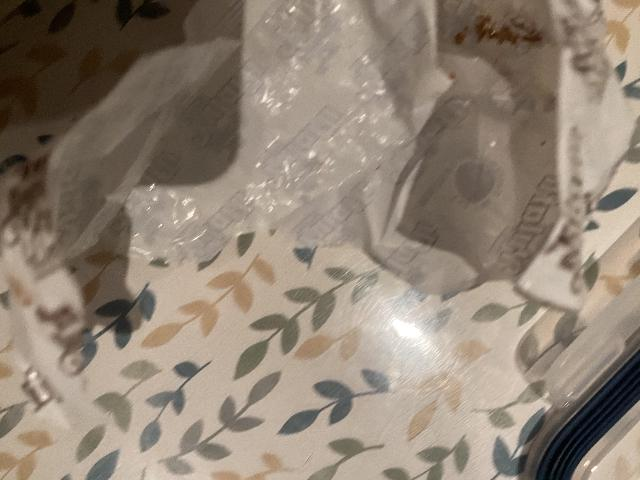Plastik: (35, 0, 640, 321)
